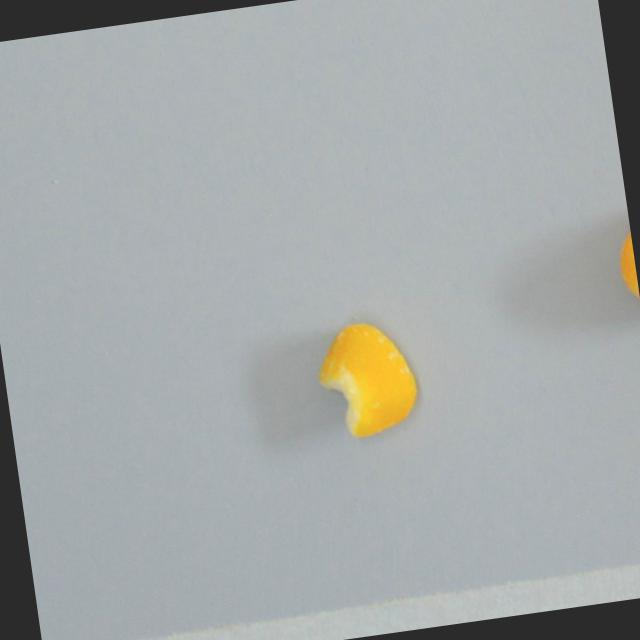no_canjicado: (612, 207, 640, 326)
pelicula: (309, 312, 429, 449)
